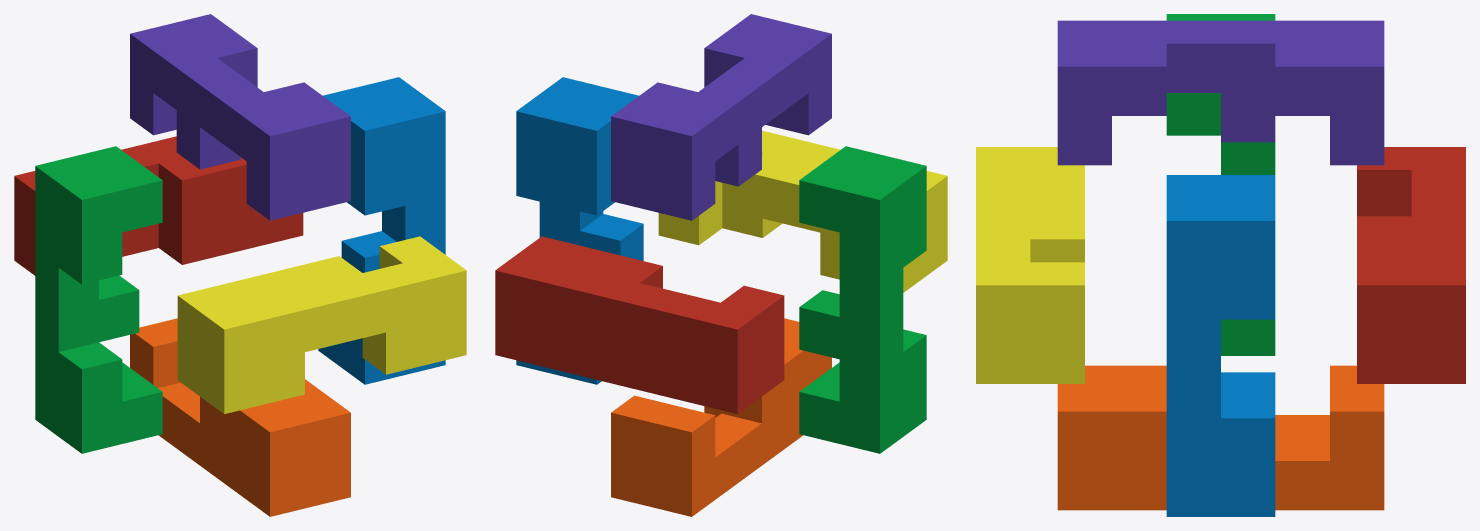
File: burr-305-exploded.glb
3 views of the same model, side by side, from view 1: azimuth 30°, elevation 25°; view 2: azimuth 150°, elevation 25°; view 3: azimuth 270°, elevation 25° (orthographic). The views are drawn at different scales.
Parts seen in each view (by area): view 1: piece-792, piece-960, piece-992, piece-975, piece-615, piece-52; view 2: piece-52, piece-960, piece-992, piece-975, piece-615, piece-792; view 3: piece-992, piece-615, piece-975, piece-52, piece-792, piece-960.
Part boxes in pixels (x1,y1,x2,y2): piece-792: (177, 236, 466, 414); piece-960: (35, 146, 162, 453); piece-992: (130, 14, 350, 220); piece-975: (130, 318, 350, 516); piece-615: (318, 77, 445, 384); piece-52: (14, 136, 303, 275); piece-52: (495, 236, 784, 414); piece-960: (799, 146, 926, 453); piece-992: (611, 14, 831, 220); piece-975: (611, 318, 831, 516); piece-615: (516, 77, 643, 384); piece-792: (658, 130, 947, 292); piece-992: (1057, 20, 1384, 165); piece-615: (1166, 175, 1275, 516); piece-975: (1057, 365, 1384, 510); piece-52: (1357, 147, 1465, 383); piece-792: (976, 147, 1084, 383); piece-960: (1166, 14, 1275, 355).
Size of the model in its own units: 0.072 by 0.072 by 0.072.
